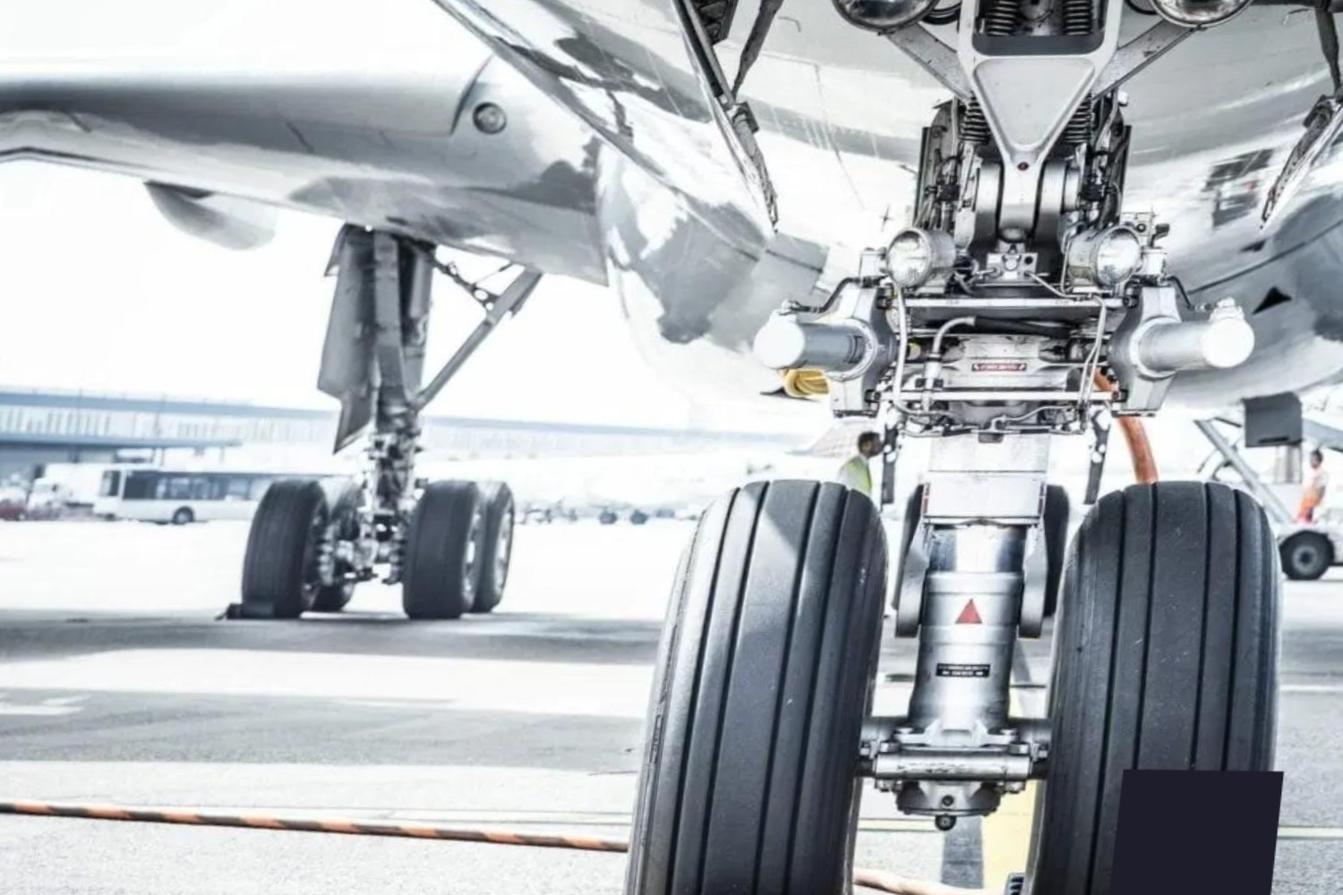wheel: (1008, 469, 1309, 895), (621, 464, 913, 895), (890, 467, 1079, 649), (234, 469, 355, 625), (395, 473, 490, 625), (303, 489, 377, 616), (458, 477, 525, 616), (1021, 478, 1077, 635), (889, 479, 934, 624), (1275, 525, 1338, 585)
